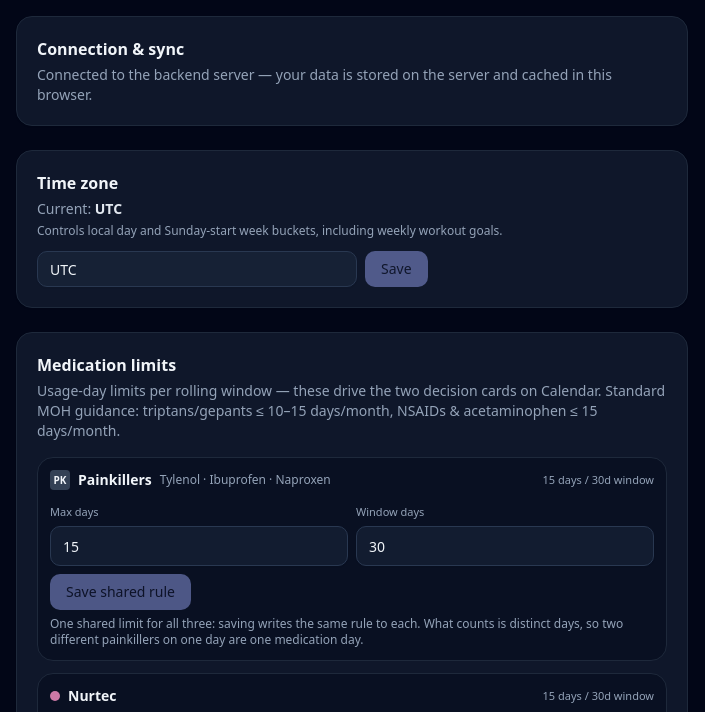
Test case: Settings shared painkiller rule › does not persist while typing, then saves all three in ONE batch action
Expected: the button "Save shared rule" is disabled, [50, 574, 191, 610]
Replace the text in the number field named "Painkillers max days" with "9" at {"x": 199, "y": 546}, box [50, 526, 348, 566]
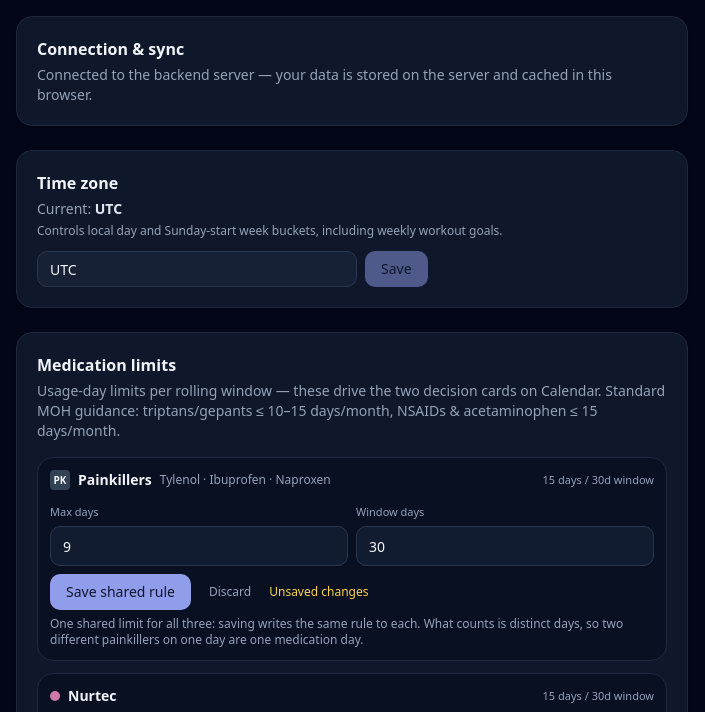
Replace the text in the number field named "Painkillers window days" with "21" at {"x": 505, "y": 546}, box [356, 526, 654, 566]
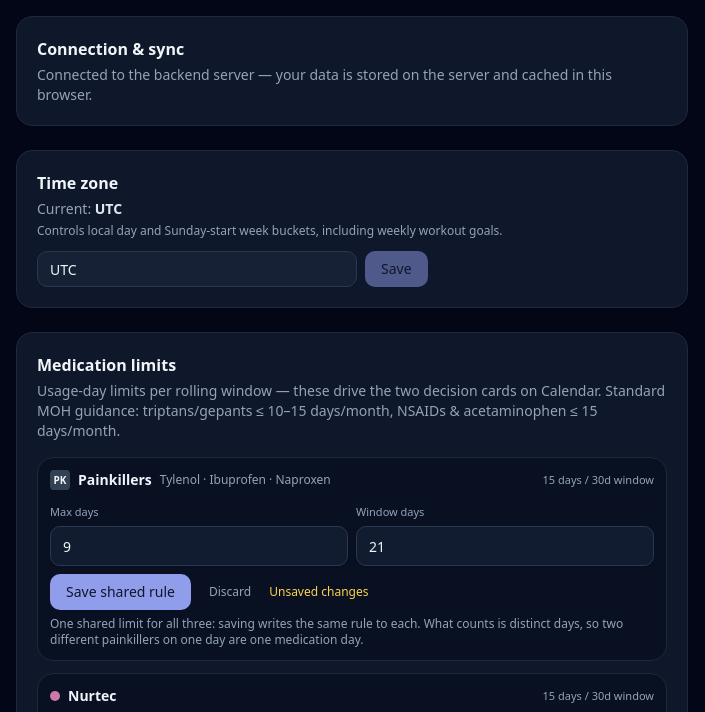
Result: the text "Unsaved changes" is shown at [269, 584, 368, 600]
Click the button "Save shared rule" at {"x": 120, "y": 592}, box [50, 574, 191, 610]
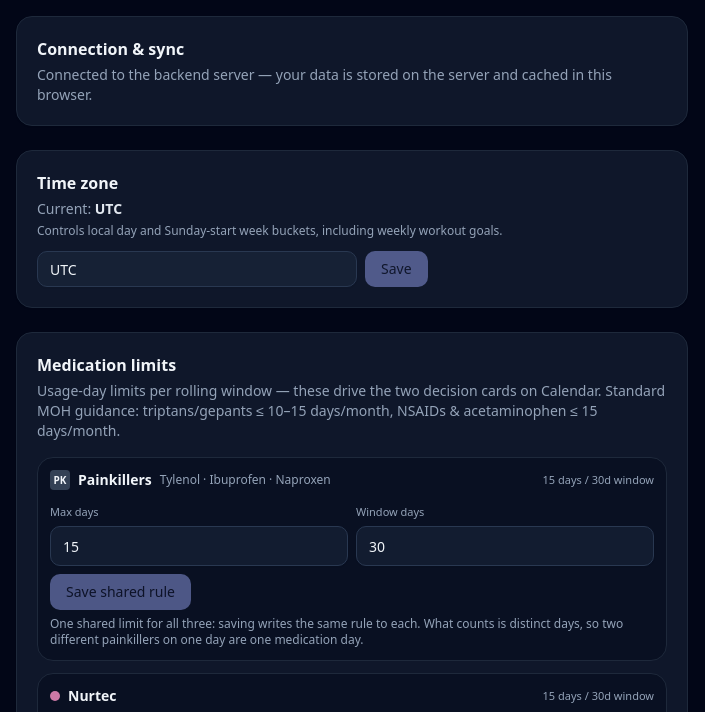
Result: the text "Unsaved changes" is gone
